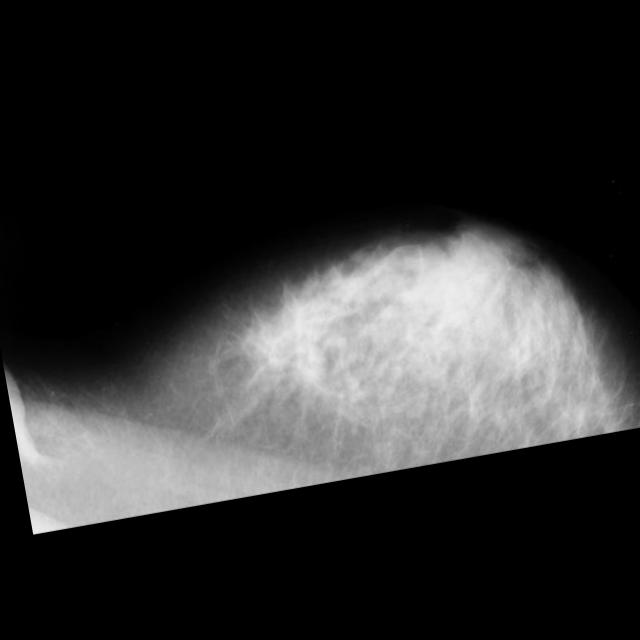ASYM: (264, 290, 334, 360)
